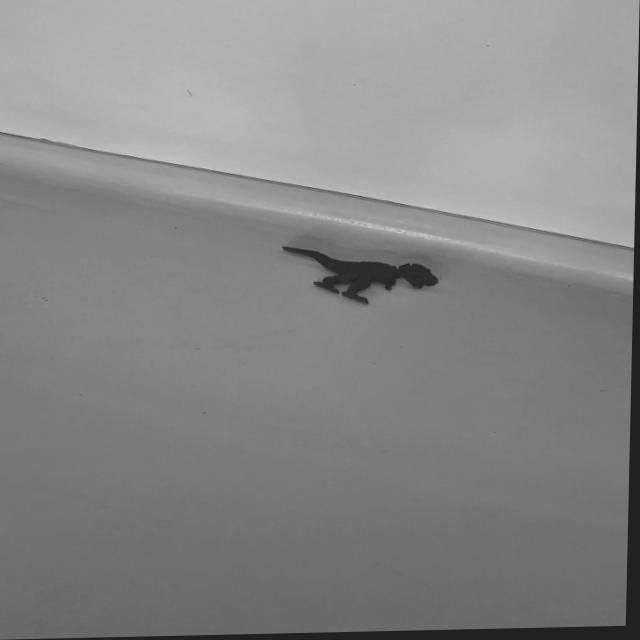dino: (279, 243, 440, 306)
